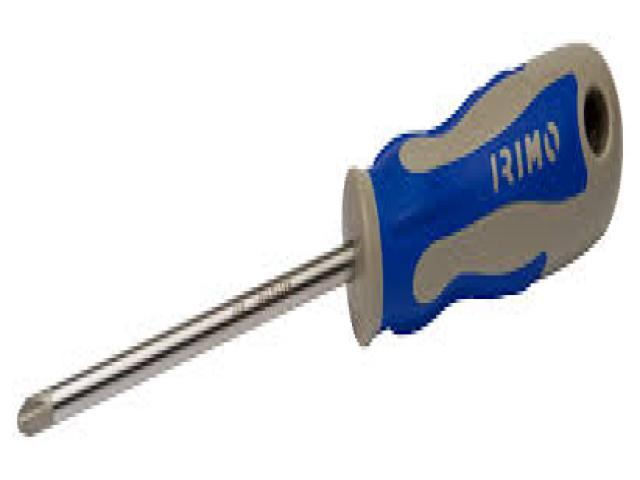Screwdriver: (18, 44, 621, 434)
